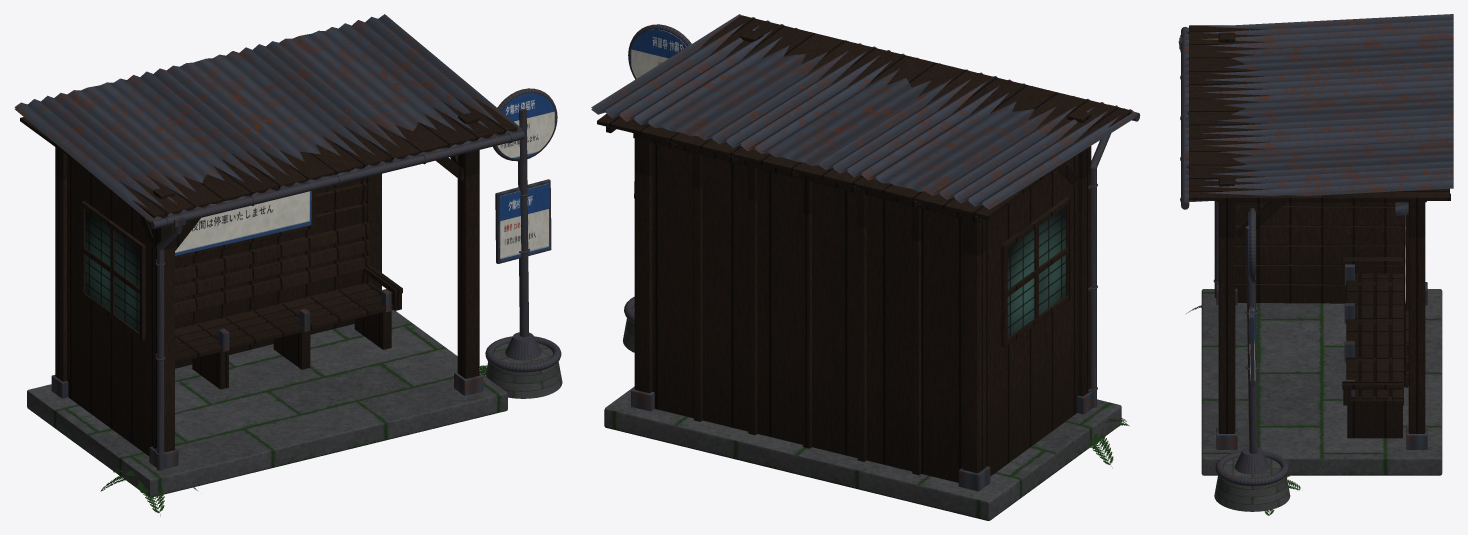
Rendered from RuralBusStop.fbx.
The picture shows the model from 3 angles, left to right: view 1: azimuth 30°, elevation 25°; view 2: azimuth 150°, elevation 25°; view 3: azimuth 270°, elevation 25°; orthographic projection. The views are drawn at different scales.
Parts seen in each view (by area): view 1: RuralBusStop; view 2: RuralBusStop; view 3: RuralBusStop.
Boxes of the visible parts, x1,y1,x2,y2 form: RuralBusStop: [14, 14, 562, 516]; RuralBusStop: [591, 14, 1140, 520]; RuralBusStop: [1178, 14, 1453, 515].
Bounding box in the file's own units: 4.1 × 2.7 × 2.21.
